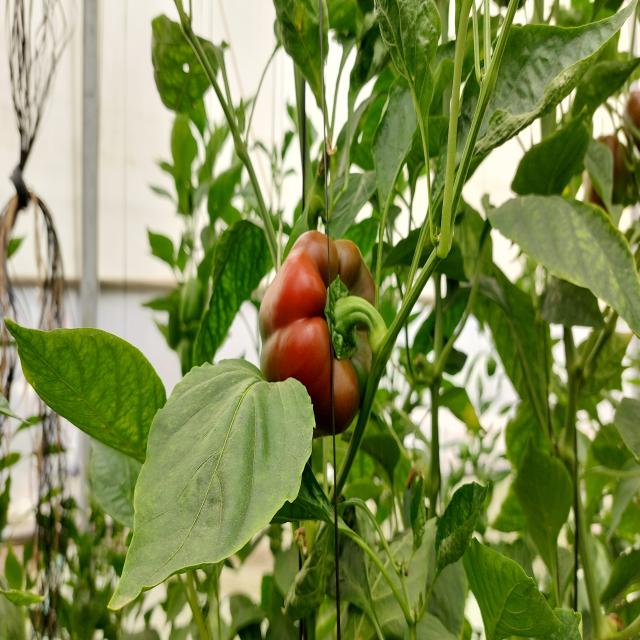BrownishRed--Can-be-Harvested: (258, 243, 382, 435)
